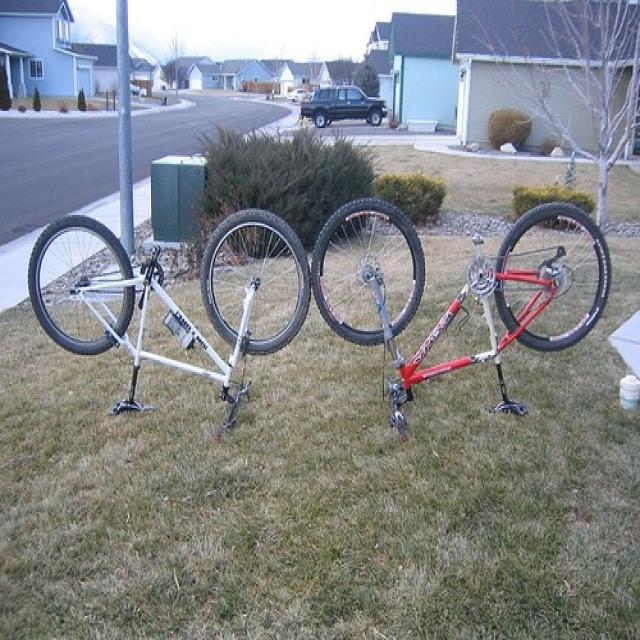bicycle: (310, 198, 613, 435), (27, 210, 310, 433)
car: (301, 84, 388, 128)
